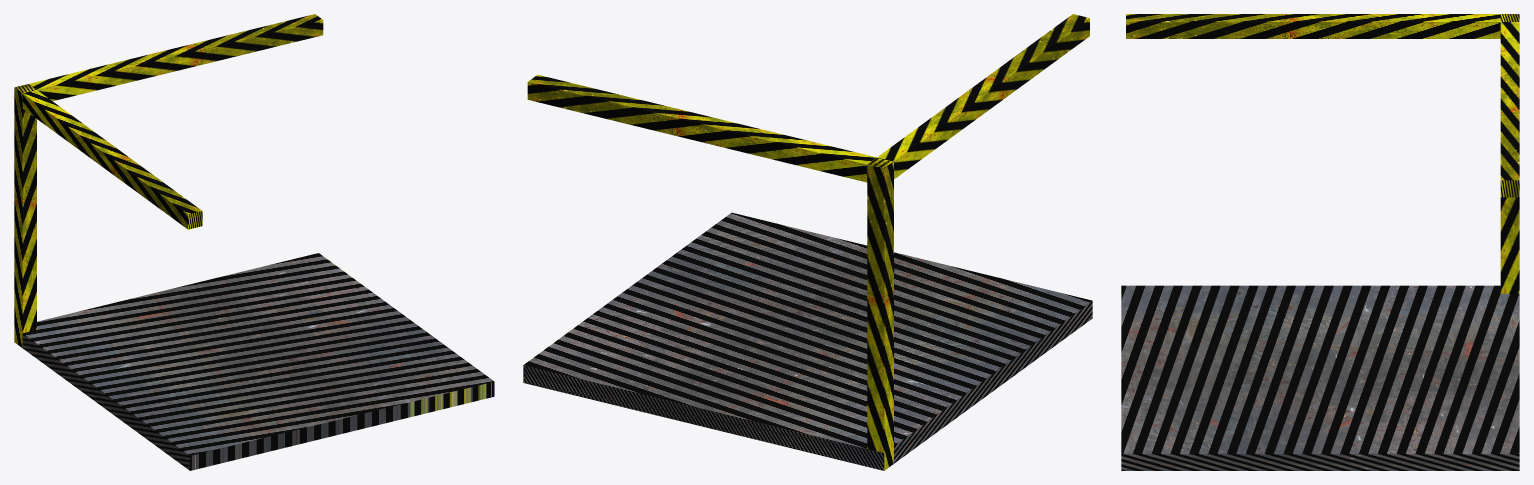
File: stairplatform.FBX
3 views of the same model, side by side, from view 1: azimuth 30°, elevation 25°; view 2: azimuth 150°, elevation 25°; view 3: azimuth 270°, elevation 25° (orthographic). The views are drawn at different scales.
Visible parts, largest first — view 1: Box039, Box041, Box040, Box042; view 2: Box039, Box041, Box040, Box042; view 3: Box039, Box042, Box041, Box040.
Part boxes in pixels (x1=…): Box039: x1=22, y1=253, x2=494, y2=470; Box041: x1=29, y1=14, x2=323, y2=101; Box040: x1=14, y1=84, x2=36, y2=347; Box042: x1=22, y1=90, x2=202, y2=229; Box039: x1=523, y1=212, x2=1092, y2=470; Box041: x1=527, y1=74, x2=876, y2=182; Box040: x1=867, y1=157, x2=893, y2=470; Box042: x1=877, y1=14, x2=1089, y2=179; Box039: x1=1121, y1=285, x2=1519, y2=470; Box042: x1=1126, y1=14, x2=1500, y2=38; Box041: x1=1500, y1=22, x2=1519, y2=197; Box040: x1=1500, y1=14, x2=1519, y2=293.
Bounding box in the file's own units: 135 × 108 × 135.
Materials: 1 (1 with a texture image).
